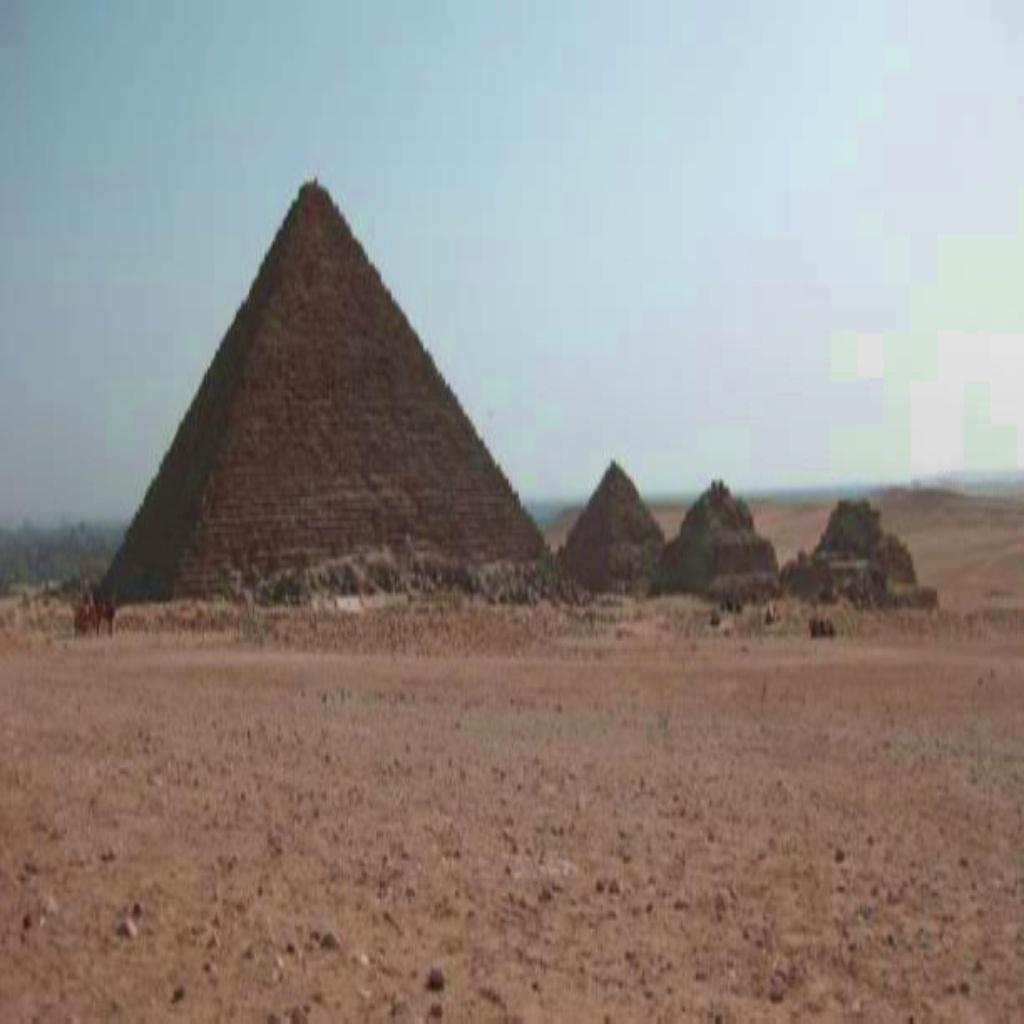Great Pyramids of Giza: (94, 172, 549, 610)
